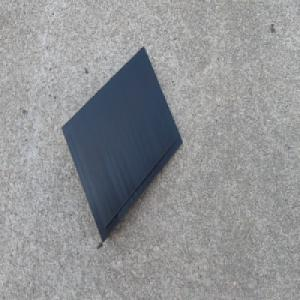PlasticPart: (59, 43, 182, 243)
